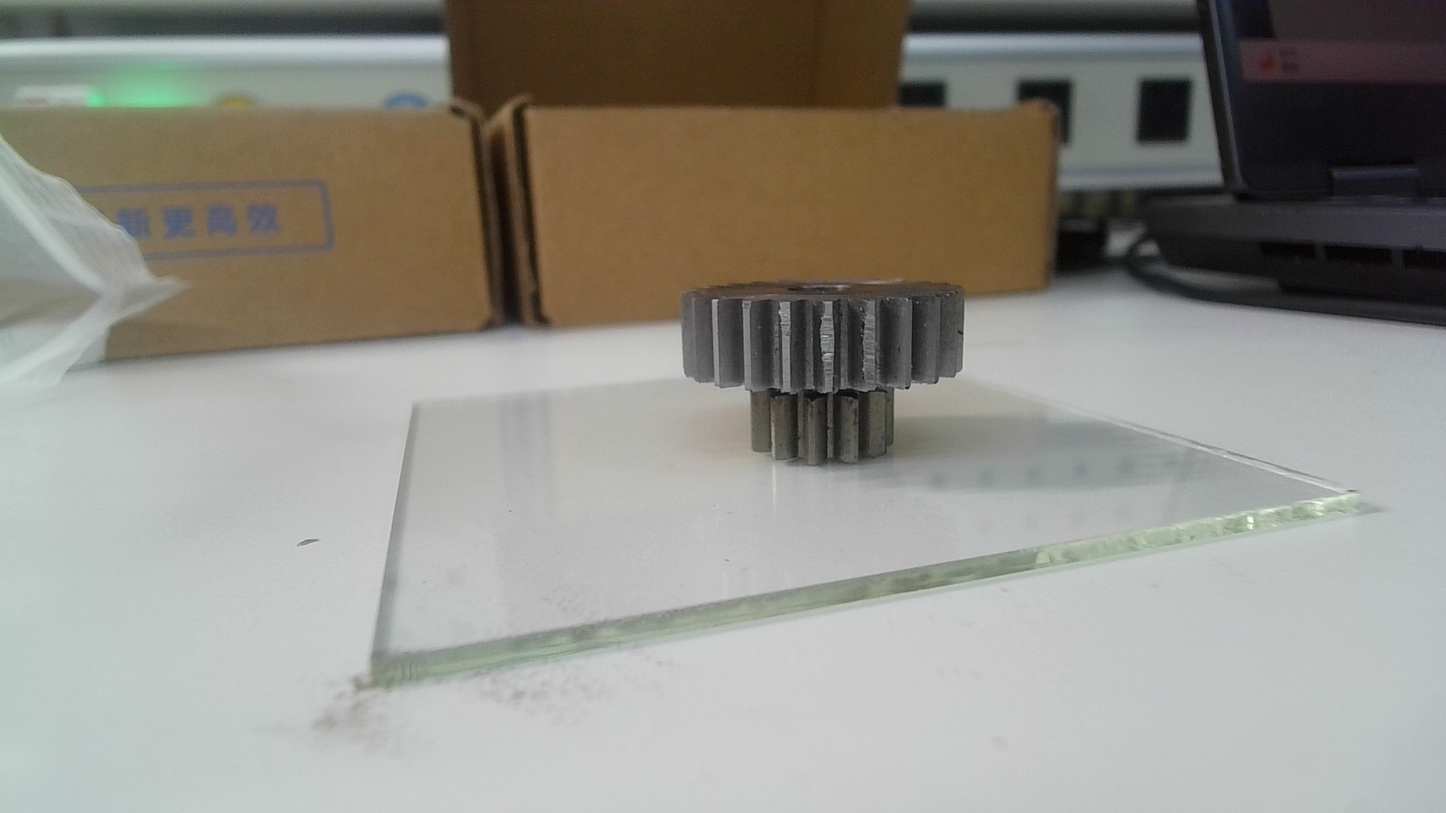gear: (673, 275, 975, 467)
